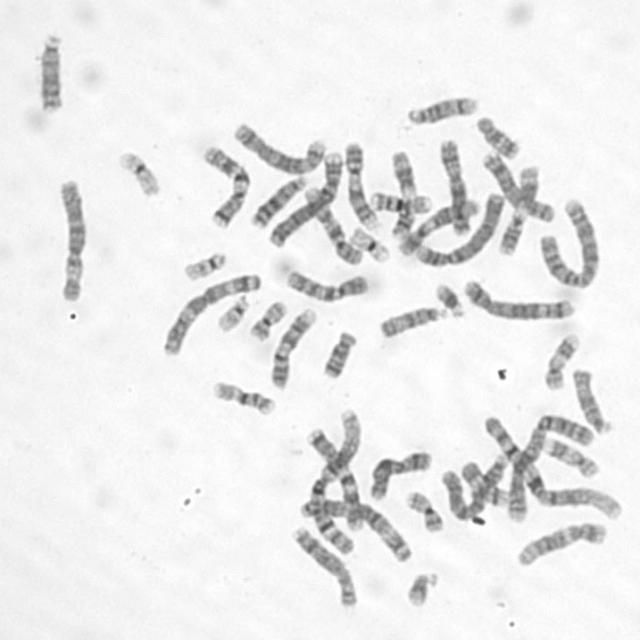A1: (480, 411, 622, 521), (306, 407, 362, 558)
A2: (504, 411, 597, 526), (534, 194, 601, 290)
A3: (158, 269, 262, 358), (299, 496, 414, 564)
B4: (266, 148, 345, 248), (409, 188, 506, 269)
B5: (230, 119, 328, 175), (458, 276, 577, 322)
C10: (299, 182, 364, 268), (281, 266, 371, 304)
C11: (495, 162, 541, 258), (386, 146, 418, 240)
C12: (397, 196, 484, 258), (514, 519, 608, 568)
C6: (53, 175, 89, 303), (440, 458, 487, 522)
C7: (303, 423, 367, 534), (199, 142, 253, 231)
C8: (286, 522, 359, 610), (479, 148, 557, 224)
C9: (266, 303, 319, 390), (342, 138, 381, 232)
D13: (247, 172, 309, 230), (34, 30, 65, 116)
D14: (402, 92, 480, 126), (481, 450, 513, 511)
D15: (569, 365, 614, 436), (376, 302, 450, 340)
E16: (209, 377, 277, 417), (365, 187, 435, 215)
E17: (541, 434, 600, 479), (540, 330, 581, 391)
E18: (473, 112, 521, 160), (318, 326, 359, 381)
F19: (114, 148, 164, 199), (347, 222, 392, 264)
F20: (402, 487, 446, 534), (247, 297, 290, 343)
G21: (399, 566, 441, 610), (432, 279, 466, 318)
G22: (212, 291, 252, 334), (180, 248, 228, 282)
X: (365, 446, 433, 503), (435, 136, 472, 236)
